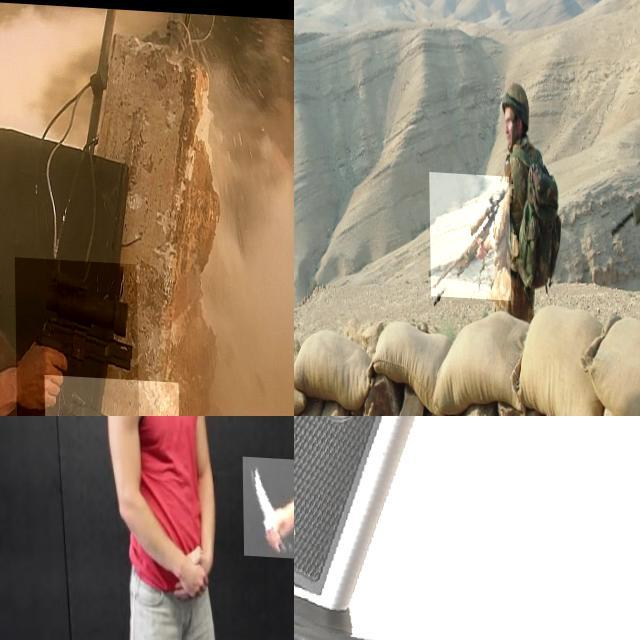-: (241, 452, 294, 554)
gun-knife-thesis - v11 Yolov5 augmented: (294, 416, 640, 640), (13, 252, 138, 416), (428, 167, 510, 295), (43, 370, 178, 416)
